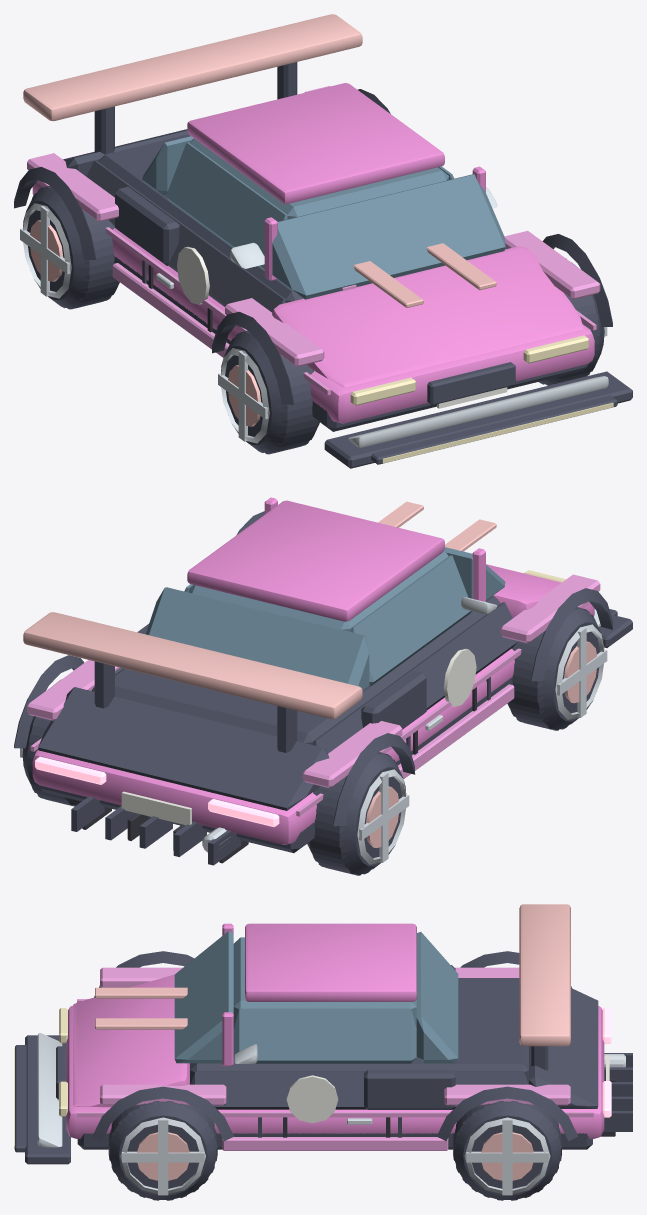
File: redline_rocket.fbx
The picture shows the model from 3 angles, top to bottom: view 1: azimuth 30°, elevation 25°; view 2: azimuth 150°, elevation 25°; view 3: azimuth 270°, elevation 25°; orthographic projection. The views are drawn at different scales.
Visible parts, largest first — view 1: Body, Trim, Glass, Accent4, Accent, Wheel_FR, Wheel_RR, Metal, Accent3, Light, Light3, Accent2 (+2 smaller); view 2: Trim, Body, Glass, Accent4, Accent, Metal, Wheel_RR, Wheel_FR, Accent2, Light2, Metal2, Light3 (+2 smaller); view 3: Trim, Body, Glass, Accent, Accent4, Metal, Wheel_RL, Wheel_FL, Accent3, Metal2, Light3, Accent2 (+2 smaller).
Part boxes in pixels (<box>): Body: <box>32,83,594,423</box>; Trim: <box>14,62,632,468</box>; Glass: <box>142,94,505,299</box>; Accent4: <box>23,14,362,121</box>; Accent: <box>27,86,600,395</box>; Wheel_FR: <box>221,330,319,454</box>; Wheel_RR: <box>23,186,119,309</box>; Metal: <box>20,203,607,443</box>; Accent3: <box>230,187,608,447</box>; Light: <box>350,335,613,463</box>; Light3: <box>353,243,496,307</box>; Accent2: <box>177,246,507,408</box>; Trim: <box>14,511,632,865</box>; Body: <box>32,497,594,844</box>; Glass: <box>146,505,505,690</box>; Accent4: <box>23,612,362,718</box>; Accent: <box>27,574,600,816</box>; Metal: <box>20,624,607,864</box>; Wheel_RR: <box>307,752,406,875</box>; Wheel_FR: <box>507,607,604,730</box>; Accent2: <box>121,648,476,825</box>; Light2: <box>35,756,279,827</box>; Metal2: <box>366,641,596,847</box>; Light3: <box>378,501,496,551</box>; Trim: <box>15,951,632,1164</box>; Body: <box>66,923,604,1138</box>; Glass: <box>174,931,458,1063</box>; Accent: <box>77,967,593,1150</box>; Accent4: <box>519,904,570,1046</box>; Metal: <box>120,1054,625,1195</box>; Wheel_RL: <box>453,1100,561,1200</box>; Wheel_FL: <box>108,1100,217,1200</box>; Accent3: <box>37,1033,257,1147</box>; Metal2: <box>137,1132,533,1180</box>; Light3: <box>95,987,187,1029</box>; Accent2: <box>57,1055,609,1123</box>.
Bounding box in the file's own units: 3 × 1.72 × 5.41.
